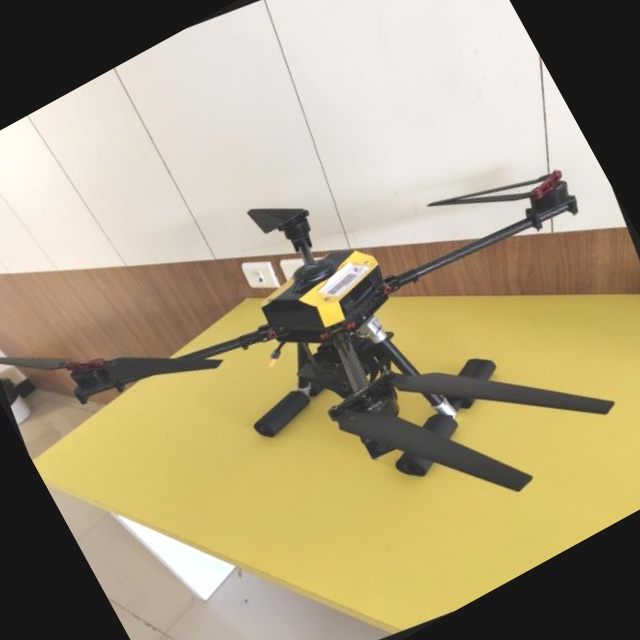quadcopter: (0, 16, 640, 640)
